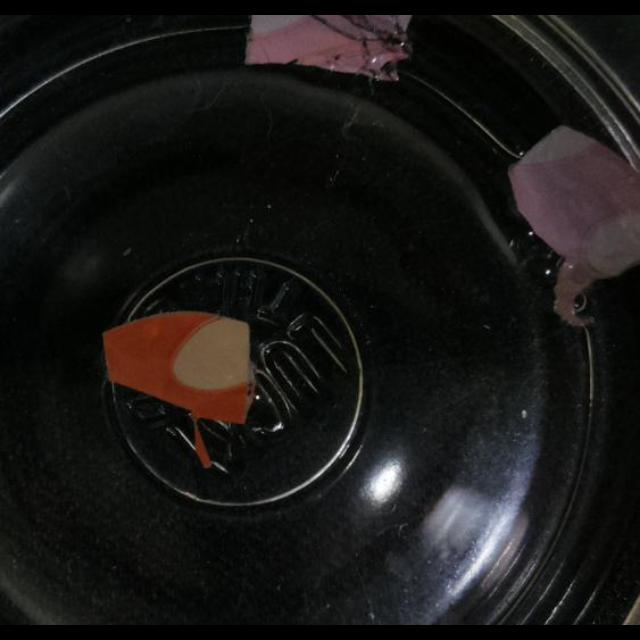Fragment: (510, 124, 640, 326), (101, 310, 257, 470), (246, 15, 414, 86)
